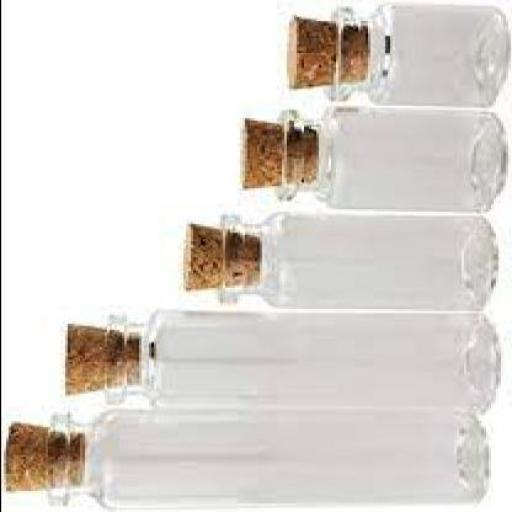glass: (44, 408, 485, 504), (101, 308, 492, 410), (214, 210, 492, 306), (276, 106, 504, 212), (328, 2, 504, 104)
